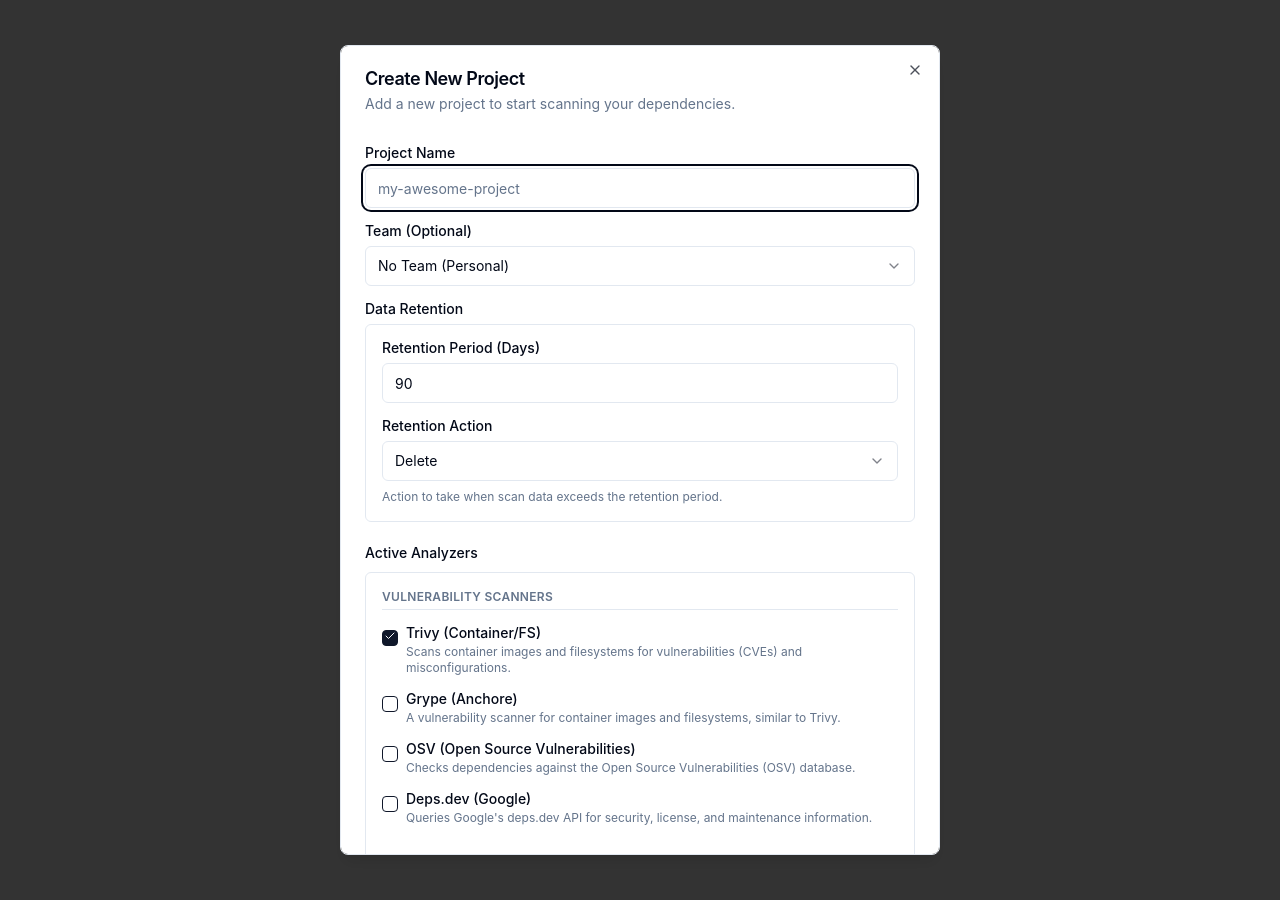
Test: CreateProjectDialog › warns when an enrichment is picked without a vulnerability scanner to feed it
The image size is (1280, 900).
Click the checkbox labelled "Trivy (Container/FS)".
click(390, 638)  # box [382,630,398,646]
(page scrolled)
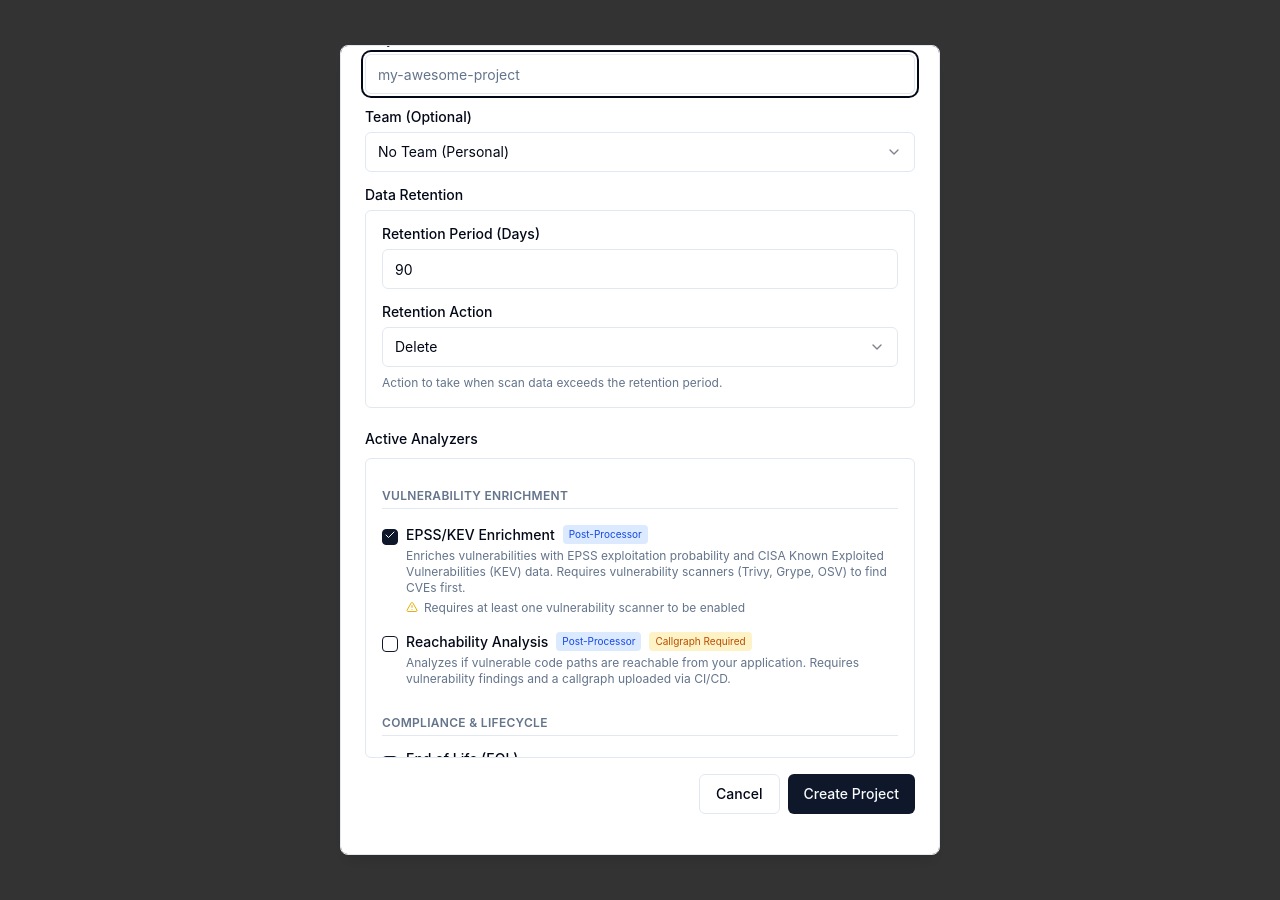
Expected: the text "Requires at least one vulnerability scanner to be enabled" is shown, [406,600,745,615]
